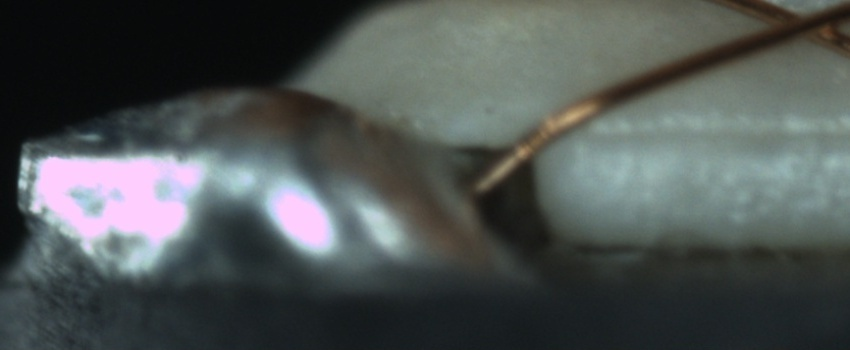CL: (751, 2, 847, 53)
DL: (576, 102, 848, 170)
